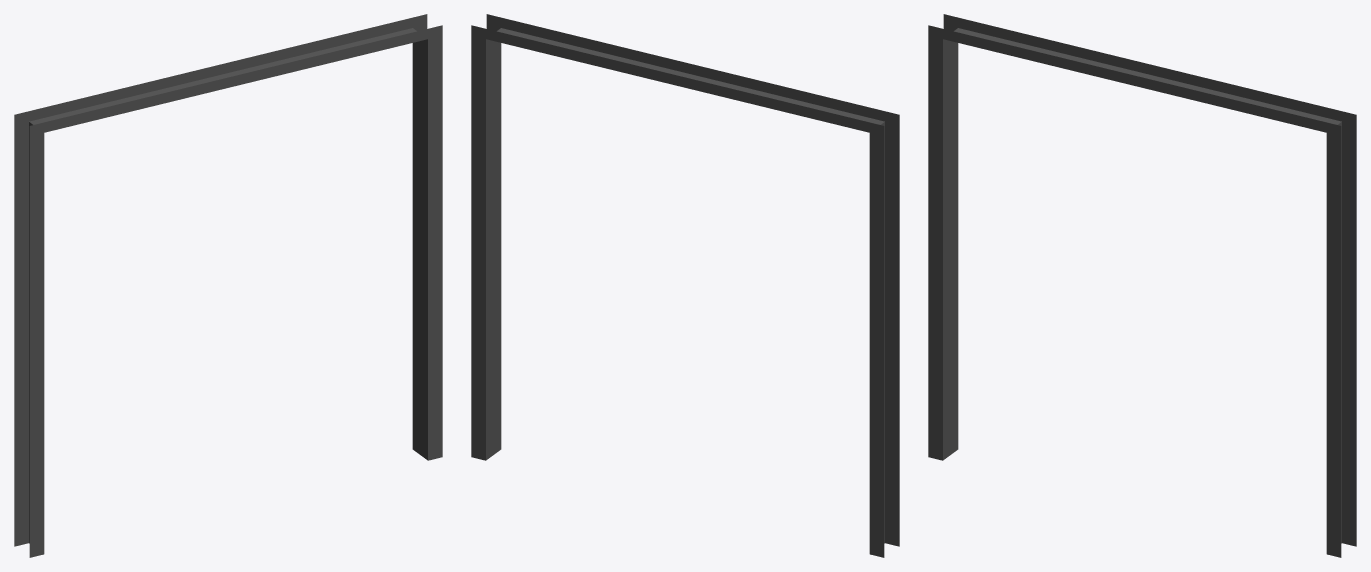
Rendered from M_SlidingDoor_Frame_0.fbx.
3 renders of one model, left to right at view 1: azimuth 30°, elevation 25°; view 2: azimuth 150°, elevation 25°; view 3: azimuth 330°, elevation 25°, orthographic.
Visible parts, largest first — view 1: M_SlidingDoor_Frame_0; view 2: M_SlidingDoor_Frame_0; view 3: M_SlidingDoor_Frame_0.
Part boxes in pixels (x1=…): M_SlidingDoor_Frame_0: x1=14, y1=14, x2=442, y2=557; M_SlidingDoor_Frame_0: x1=471, y1=14, x2=899, y2=557; M_SlidingDoor_Frame_0: x1=928, y1=14, x2=1356, y2=557.
Bounding box in the file's own units: 1213 × 1211 × 77.79.
